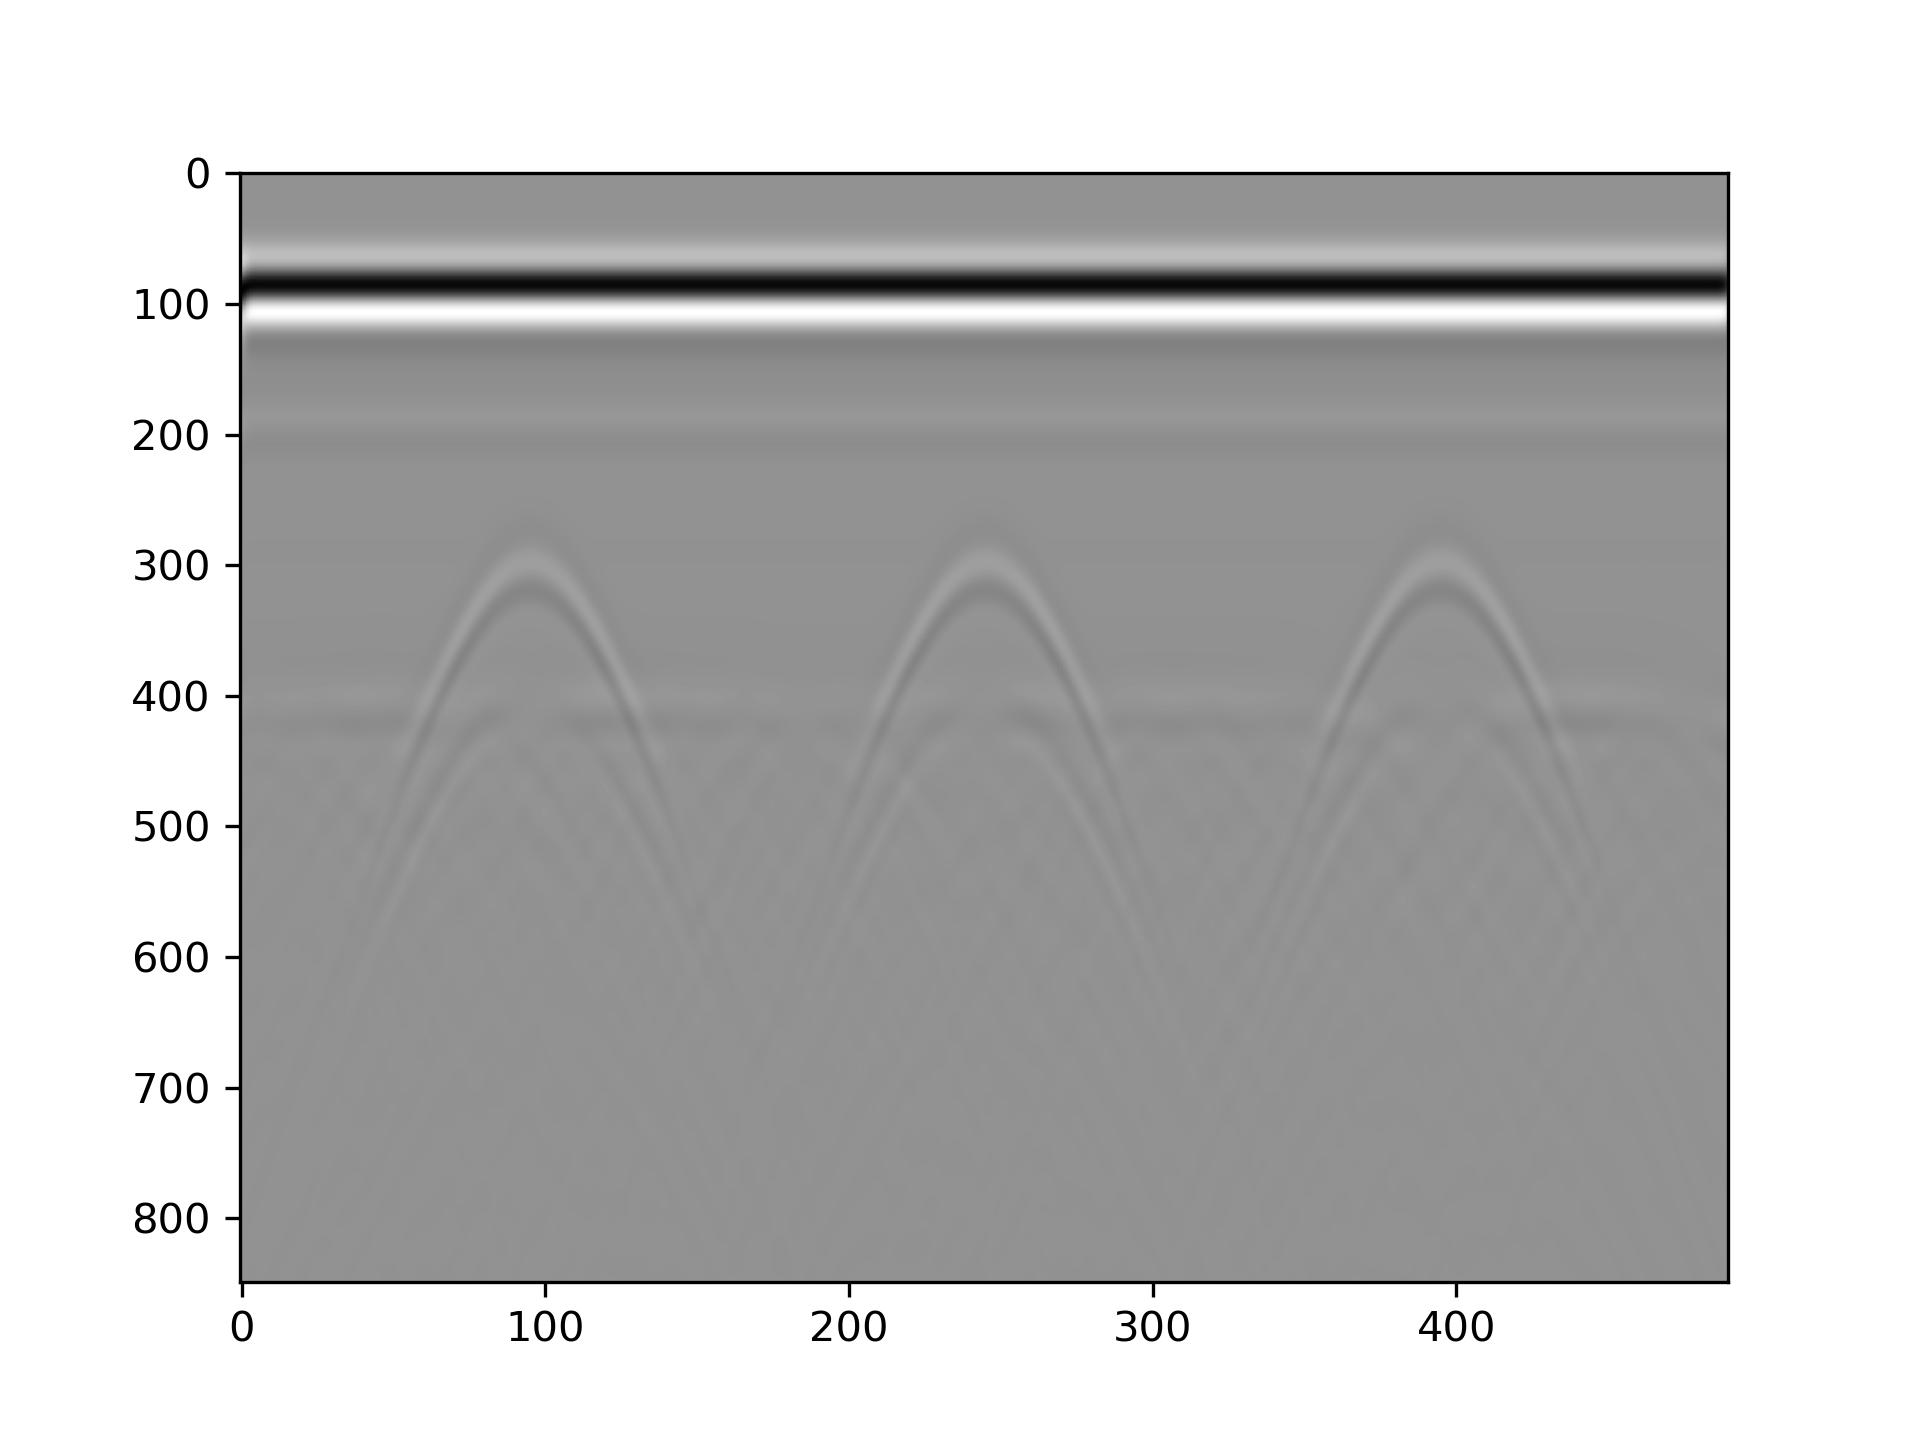钢筋: (505, 552, 555, 602), (963, 552, 1013, 602), (1421, 552, 1471, 602)
